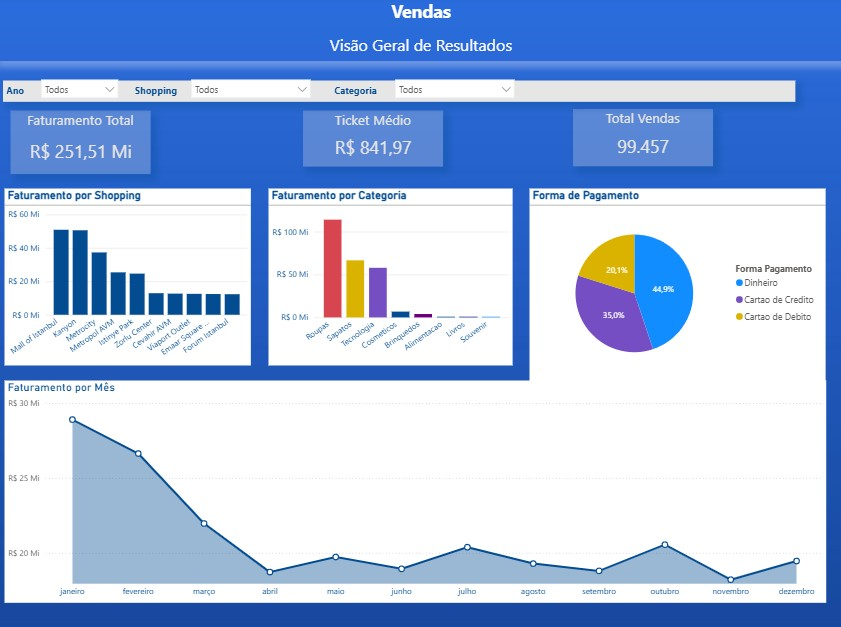

The dashboard page shown, as its layout file describes it:
{"tool":"powerbi","page":{"name":"Sales","canvas":[1280,1000],"ordinal":0},"visuals":[{"type":"textbox","box":[14.3,126.4,1188.2,31.8],"z":0,"group":"g1"},{"type":"card","title":"Faturamento Total","fields":{"Values":["m.Faturamento Total"]},"box":[23.9,173.4,210,95.4],"z":0},{"type":"textbox","box":[0,0,1280.4,98.6],"z":1000},{"type":"card","title":"Ticket Médio","fields":{"Values":["m.Ticket_Medio"]},"box":[462.9,173.4,210,84.3],"z":2000},{"type":"slicer","fields":{"Values":["Sales.Ano"]},"box":[60.5,116.1,135.2,41.4],"z":3000,"group":"g1"},{"type":"card","title":"Total Vendas","fields":{"Values":["m.Vendas"]},"box":[868.5,171.8,210,85.9],"z":3000},{"type":"slicer","fields":{"Values":["Sales.Shopping"]},"box":[285.6,116.9,198.8,41.4],"z":4000,"group":"g1"},{"type":"clusteredColumnChart","title":"Faturamento por Shopping","fields":{"Y":["m.Faturamento Total"],"Category":["Sales.Shopping"]},"box":[15.9,289.5,369,265.6],"z":4000},{"type":"slicer","fields":{"Values":["Sales.Categoria"]},"box":[591.7,116.9,198.8,41.4],"z":5000,"group":"g1"},{"type":"clusteredColumnChart","title":"Faturamento por Categoria","fields":{"Category":["Sales.Categoria"],"Y":["m.Faturamento Total"]},"box":[410.8,289.5,365.8,265.6],"z":5000},{"type":"group","id":"g1","title":"Grupo 1","box":[14.3,116.1,1188.2,41.4],"z":6000},{"type":"pieChart","title":"Forma de Pagamento","fields":{"Category":["Sales.Forma_Pagamento"],"Y":["m.Faturamento Total"]},"box":[802.5,290,443.8,288.8],"z":7000},{"type":"lineChart","title":"Faturamento por Mês","fields":{"Y":["m.Faturamento Total"],"Category":["Sales.Data_Venda.Variation.Hierarquia de datas.Mês"]},"box":[15,578.3,1231.7,333.3],"z":8000}]}

Visuals, with their boxes in screenshot pixels (x1, y1, x2, y2):
textbox: <bbox>3, 58, 792, 79</bbox>
"Faturamento Total" card: <bbox>9, 89, 149, 152</bbox>
textbox: <bbox>0, 0, 840, 39</bbox>
"Ticket Médio" card: <bbox>301, 89, 440, 145</bbox>
slicer - Sales.Ano: <bbox>34, 51, 123, 78</bbox>
"Total Vendas" card: <bbox>570, 88, 710, 145</bbox>
slicer - Sales.Shopping: <bbox>183, 51, 315, 79</bbox>
"Faturamento por Shopping" clusteredColumnChart: <bbox>4, 166, 249, 342</bbox>
slicer - Sales.Categoria: <bbox>386, 51, 518, 79</bbox>
"Faturamento por Categoria" clusteredColumnChart: <bbox>266, 166, 509, 342</bbox>
"Grupo 1" group: <bbox>3, 51, 792, 78</bbox>
"Forma de Pagamento" pieChart: <bbox>526, 166, 821, 358</bbox>
"Faturamento por Mês" lineChart: <bbox>3, 358, 821, 579</bbox>
